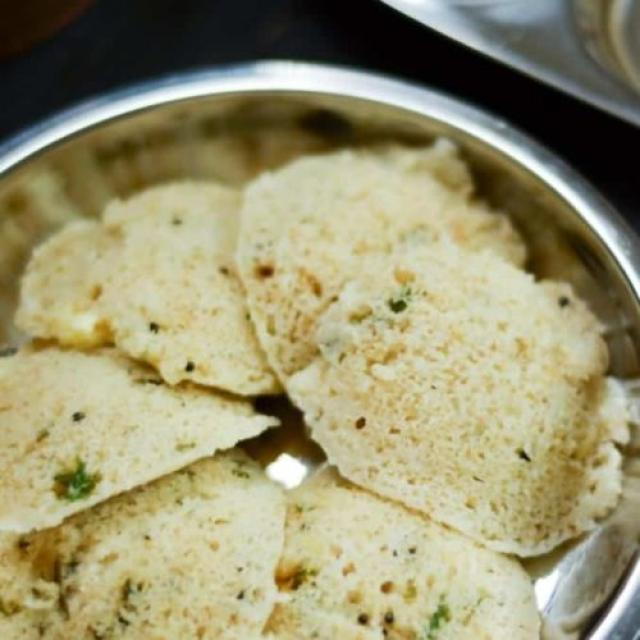IDLI: (280, 241, 607, 553), (239, 150, 529, 392), (15, 182, 279, 396), (0, 348, 278, 532), (26, 451, 285, 639), (271, 471, 539, 637)
